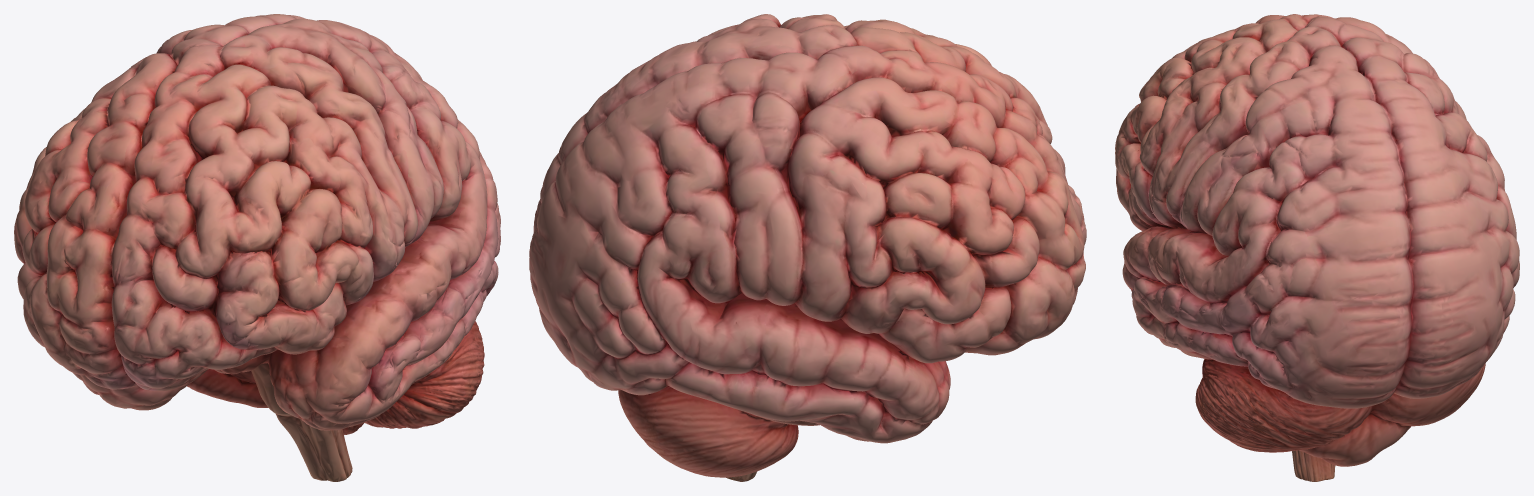
File: brain.glb
The picture shows the model from 3 angles, left to right: view 1: azimuth 30°, elevation 25°; view 2: azimuth 150°, elevation 25°; view 3: azimuth 270°, elevation 25°; orthographic projection. The views are drawn at different scales.
Visible parts, largest first — view 1: tripo_node_938185c2-e59c-4f52-8e5e-bb526af0889b; view 2: tripo_node_938185c2-e59c-4f52-8e5e-bb526af0889b; view 3: tripo_node_938185c2-e59c-4f52-8e5e-bb526af0889b.
Boxes of the visible parts, bbox=[...] form: tripo_node_938185c2-e59c-4f52-8e5e-bb526af0889b: bbox=[14, 14, 500, 481]; tripo_node_938185c2-e59c-4f52-8e5e-bb526af0889b: bbox=[529, 14, 1086, 481]; tripo_node_938185c2-e59c-4f52-8e5e-bb526af0889b: bbox=[1115, 14, 1519, 481].
Size of the model in its own units: 32121 by 29500 by 26472.
Materials: 1 (1 with a texture image).
